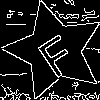F: (29, 25, 82, 81)
